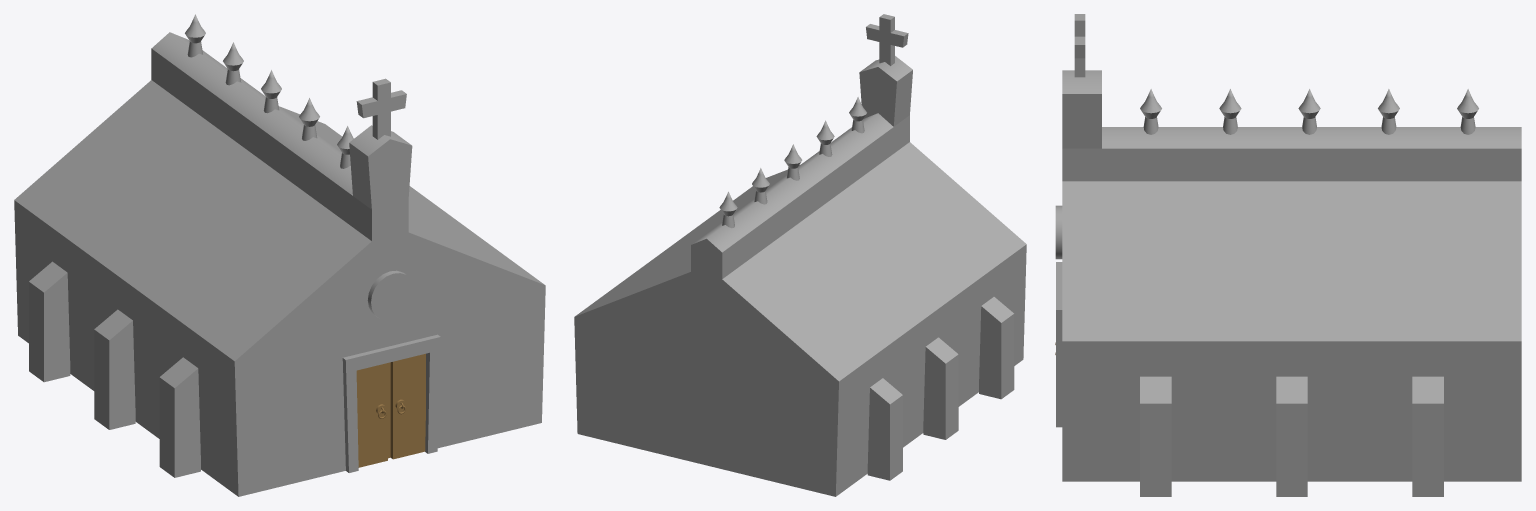
Rendered from Cripta.fbx.
3 renders of one model, left to right at view 1: azimuth 30°, elevation 25°; view 2: azimuth 150°, elevation 25°; view 3: azimuth 270°, elevation 25°, orthographic. The views are drawn at different scales.
Visible parts, largest first — view 1: polySurface14, polySurface16; view 2: polySurface14; view 3: polySurface14.
Part boxes in pixels (x1,y1,x2,y2): polySurface14: (14,14,545,496); polySurface16: (356,353,425,467); polySurface14: (574,14,1026,496); polySurface14: (1055,14,1521,496).
Size of the model in its own units: 7.23 by 7.24 by 7.87.
